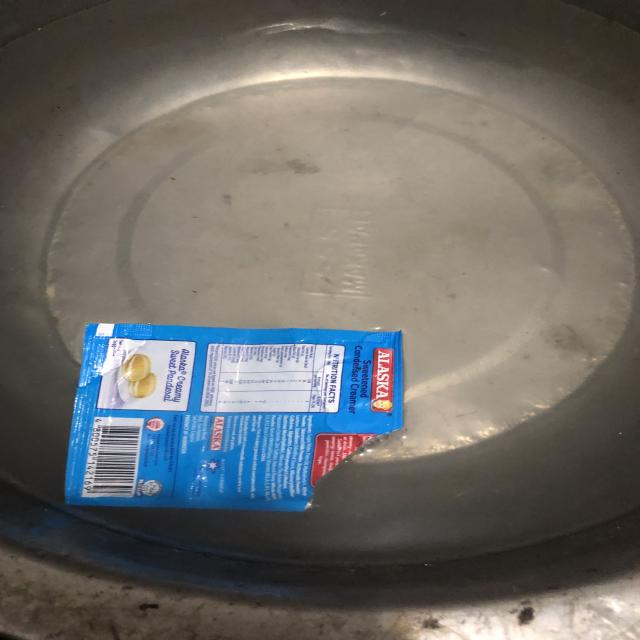Plastic Wrapper: (65, 323, 403, 510)
